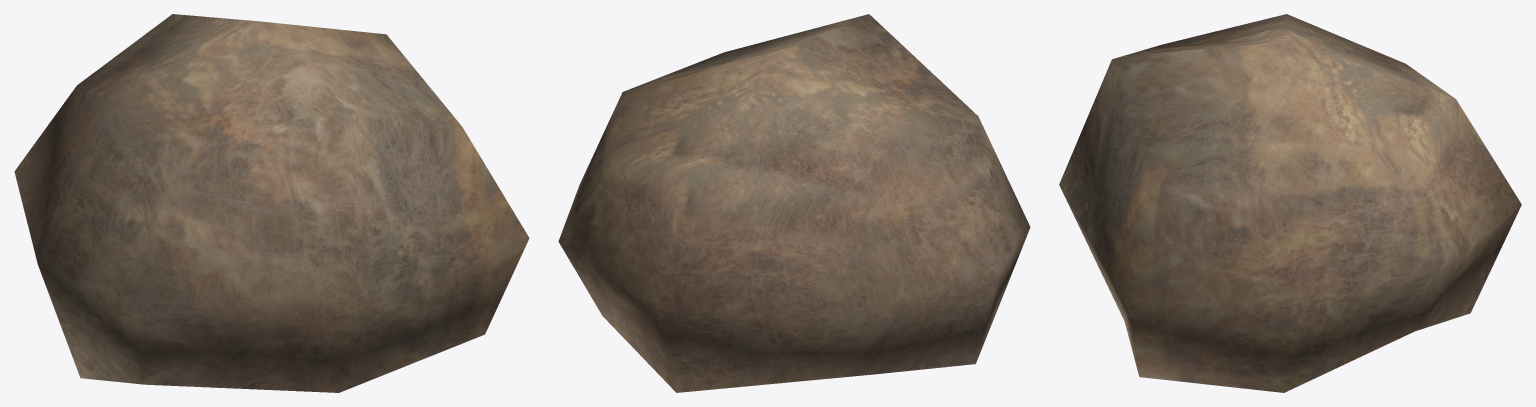
Rendered from lod2_rock_bigmama.obj.
3 renders of one model, left to right at view 1: azimuth 30°, elevation 25°; view 2: azimuth 150°, elevation 25°; view 3: azimuth 270°, elevation 25°, orthographic. The views are drawn at different scales.
Visible parts, largest first — view 1: lod2_rock1 game; view 2: lod2_rock1 game; view 3: lod2_rock1 game.
Boxes of the visible parts, x1,y1,x2,y2 form: lod2_rock1 game: (14,14,529,392); lod2_rock1 game: (558,14,1030,392); lod2_rock1 game: (1059,14,1521,392).
Size of the model in its own units: 38.7 by 29.01 by 38.84.
1 material, 1 textured.
